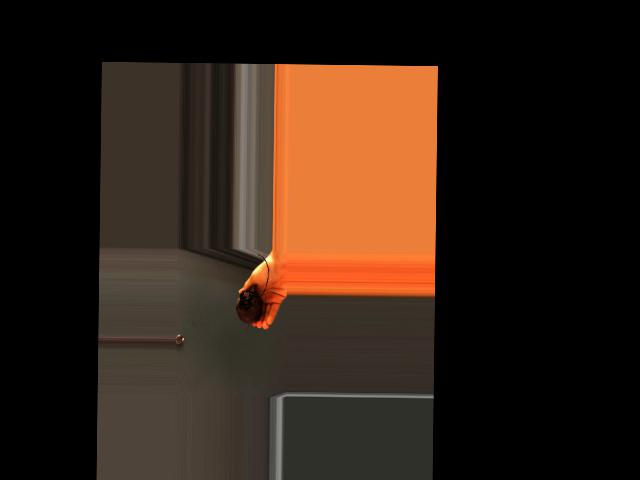beet: (236, 254, 269, 332)
